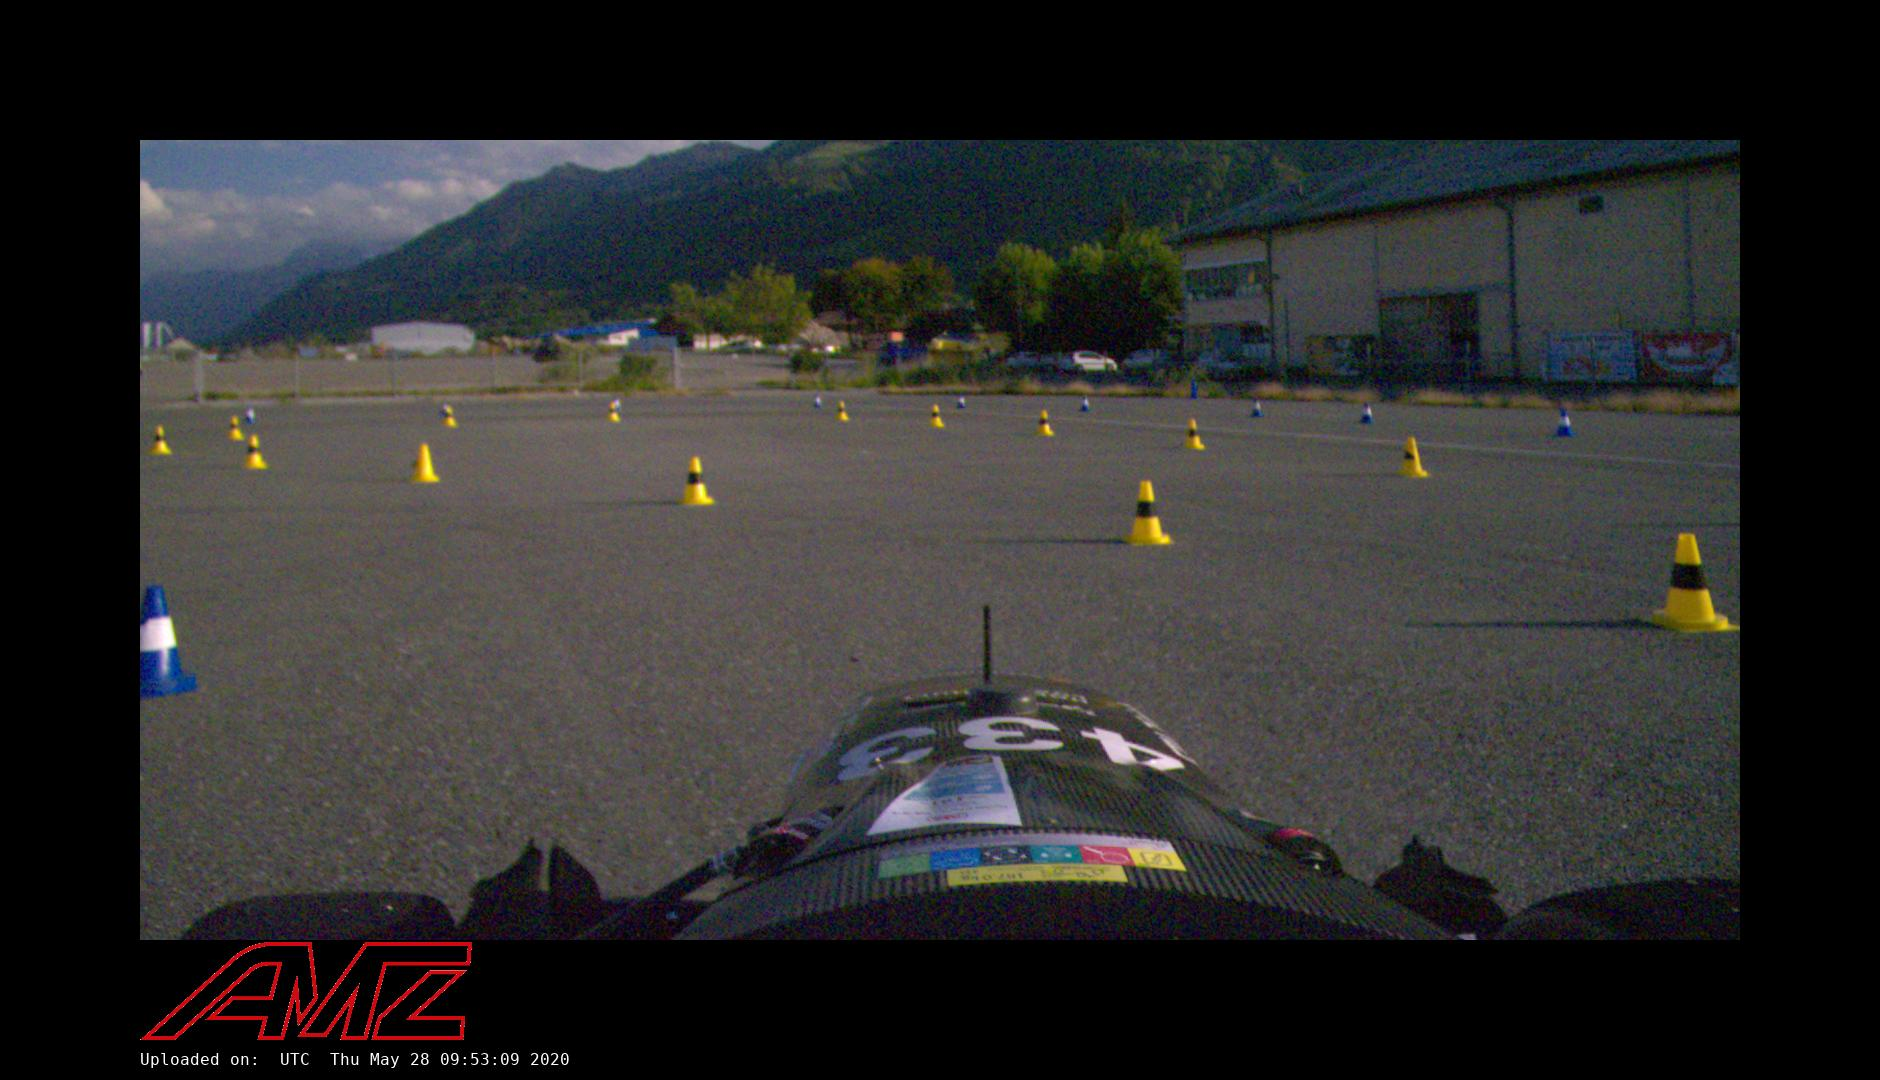blue_cone: (139, 584, 198, 699), (1551, 410, 1577, 437), (1358, 402, 1376, 424), (1250, 399, 1264, 419), (1077, 397, 1091, 412), (245, 406, 257, 424), (812, 393, 822, 408), (955, 394, 966, 408)
yellow_cone: (1637, 534, 1739, 632), (1119, 481, 1178, 546), (675, 457, 715, 506), (1395, 437, 1432, 478), (408, 443, 440, 483), (241, 435, 266, 469), (1181, 419, 1205, 451), (148, 426, 172, 455), (926, 404, 946, 428), (226, 416, 245, 441), (1036, 411, 1054, 437), (442, 406, 460, 428), (834, 400, 850, 421), (606, 403, 620, 422)
